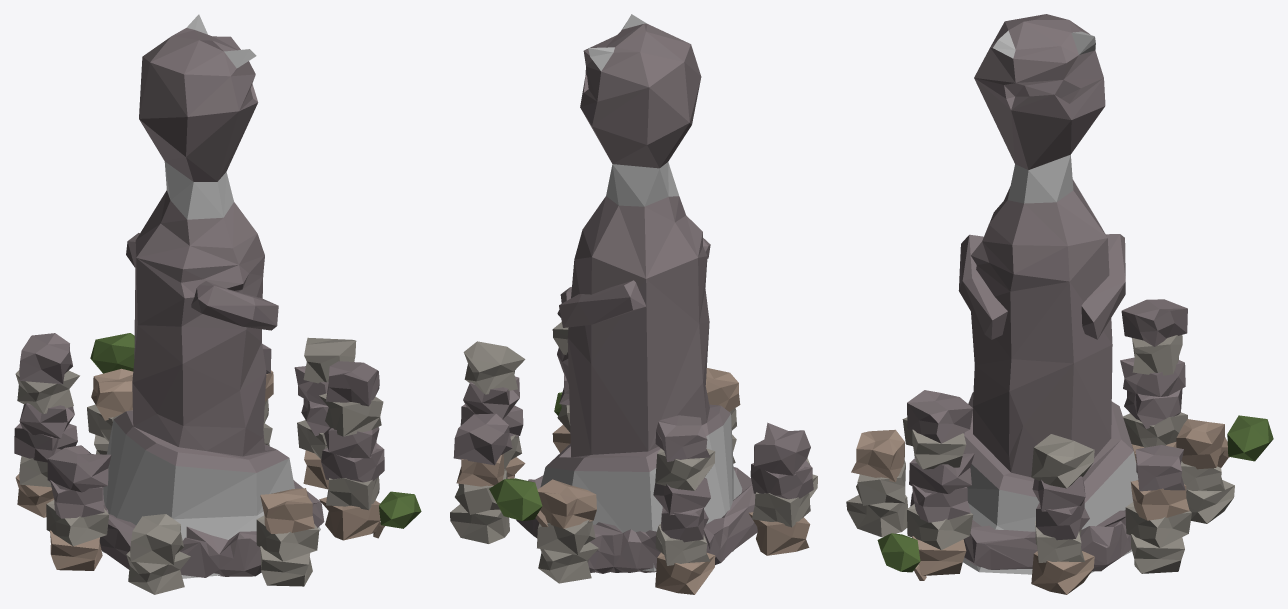
Rendered from idols.fbx.
3 views of the same model, side by side, from view 1: azimuth 30°, elevation 25°; view 2: azimuth 150°, elevation 25°; view 3: azimuth 270°, elevation 25° (orthographic). The views are drawn at different scales.
Visible parts, largest first — view 1: idols; view 2: idols; view 3: idols.
Boxes of the visible parts, box(x1,y1,x2,y2) form: idols: box(14, 14, 421, 594); idols: box(450, 14, 817, 594); idols: box(846, 14, 1273, 594).
Size of the model in its own units: 943 by 1395 by 1052.
